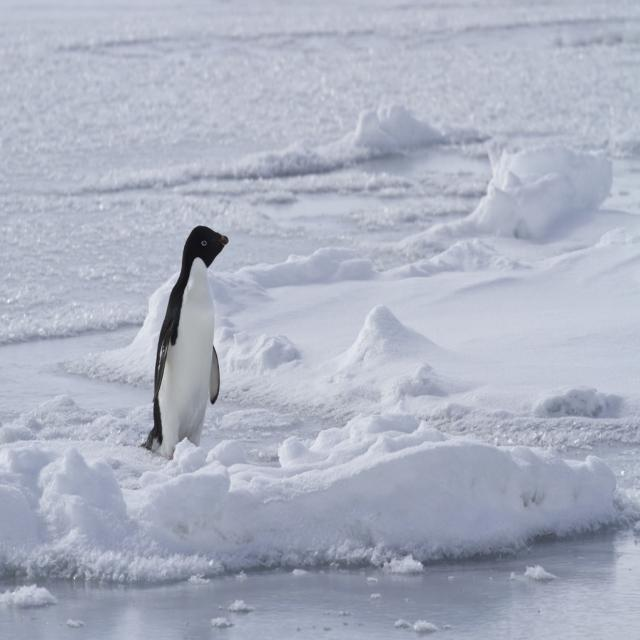Penguins: (136, 218, 232, 477)
